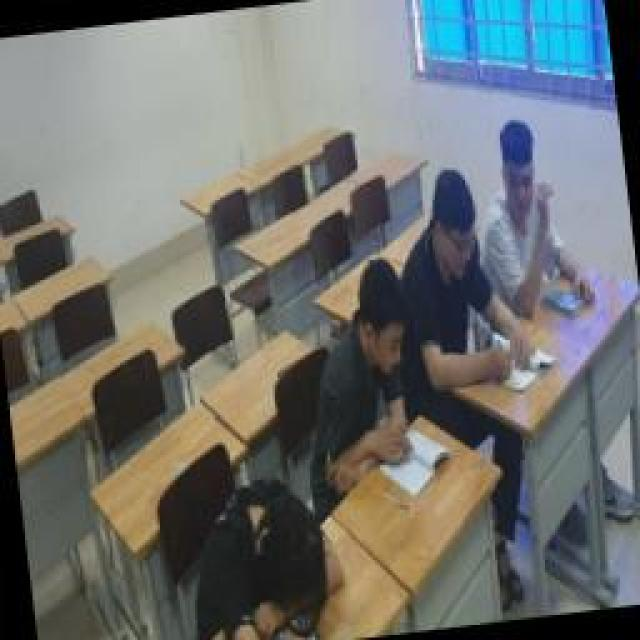sleep: (190, 465, 348, 640)
study: (395, 155, 547, 403), (305, 252, 430, 500), (478, 113, 590, 335)
